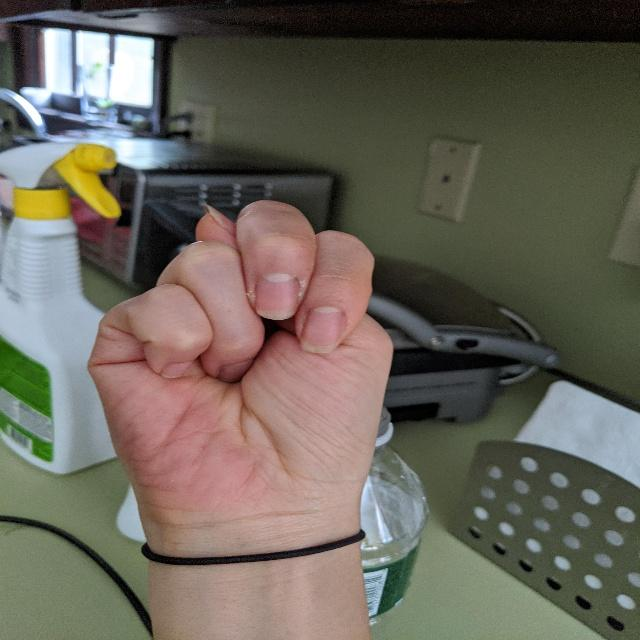N: (80, 192, 418, 530)
